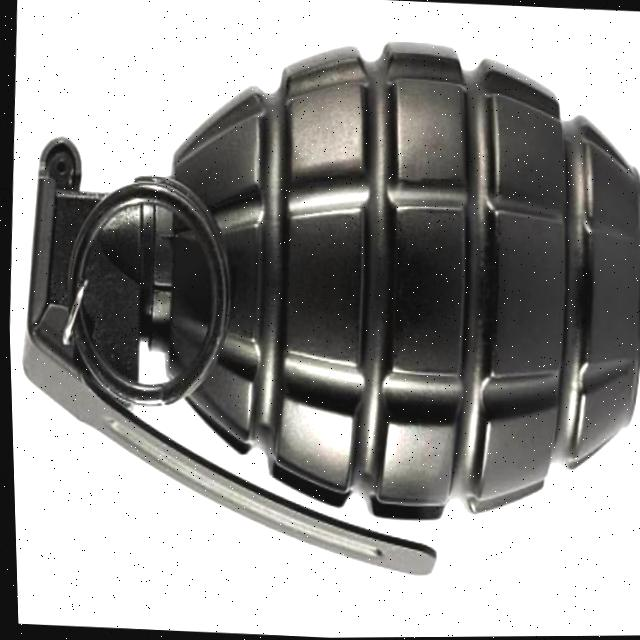grenade: (1, 19, 640, 606)
